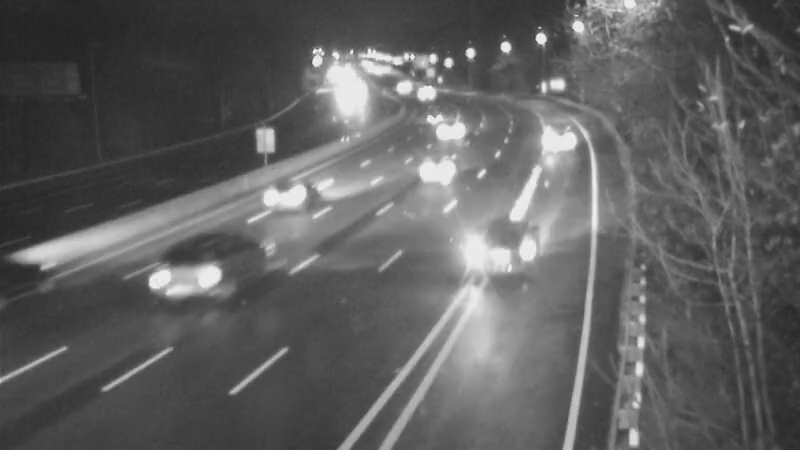vehicle: (515, 111, 595, 191), (393, 137, 473, 217), (251, 151, 331, 231), (469, 207, 549, 287), (160, 228, 240, 308), (376, 66, 426, 116), (397, 67, 447, 117), (401, 91, 451, 141), (428, 106, 478, 156)
